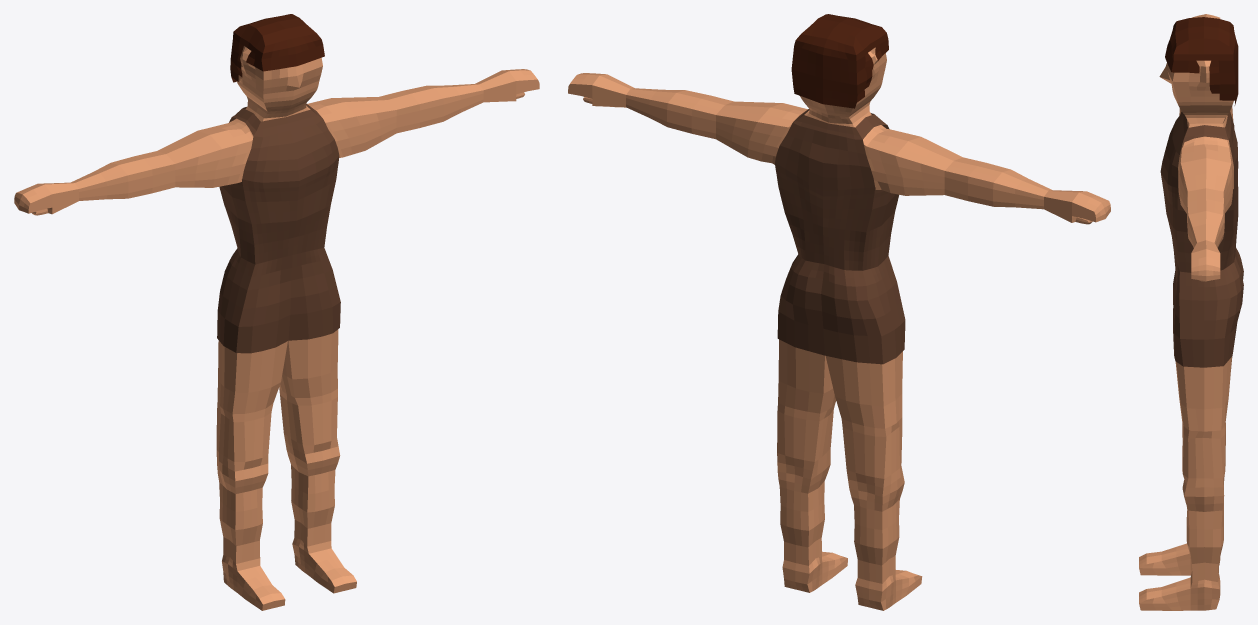
File: Player.fbx
The picture shows the model from 3 angles, left to right: view 1: azimuth 30°, elevation 25°; view 2: azimuth 150°, elevation 25°; view 3: azimuth 270°, elevation 25°; orthographic projection. The views are drawn at different scales.
Visible parts, largest first — view 1: Cube, Cube.001, Cube.002; view 2: Cube, Cube.001, Cube.002; view 3: Cube, Cube.001, Cube.002.
Part boxes in pixels (box(x1,y1,x2,y2)): Cube: box(14, 46, 539, 610); Cube.001: box(217, 104, 340, 353); Cube.002: box(230, 14, 324, 82); Cube: box(568, 47, 1110, 610); Cube.001: box(775, 109, 905, 364); Cube.002: box(791, 14, 888, 108); Cube: box(1139, 14, 1233, 610); Cube.001: box(1160, 111, 1243, 367); Cube.002: box(1165, 17, 1238, 105).
Bounding box in the file's own units: 751 × 773 × 131.
